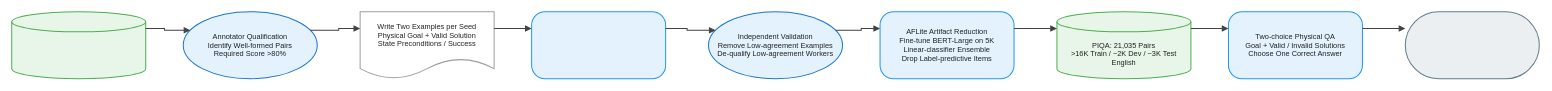
The diagram is 1552 pixels wide and 91 high, and some of its shapes have lost their labels. Here are the shapes that lost their labels. From the top down, the centre of each, then its label:
point 78,45: Instructables Seeds Costume / Outside / Craft Home / Food / Workshop
point 598,45: Create Invalid Trick Syntactically + Topically Similar Subtle Physical Error
point 1472,45: Accuracy Human Baseline by Majority Vote Model vs Human Analysis
